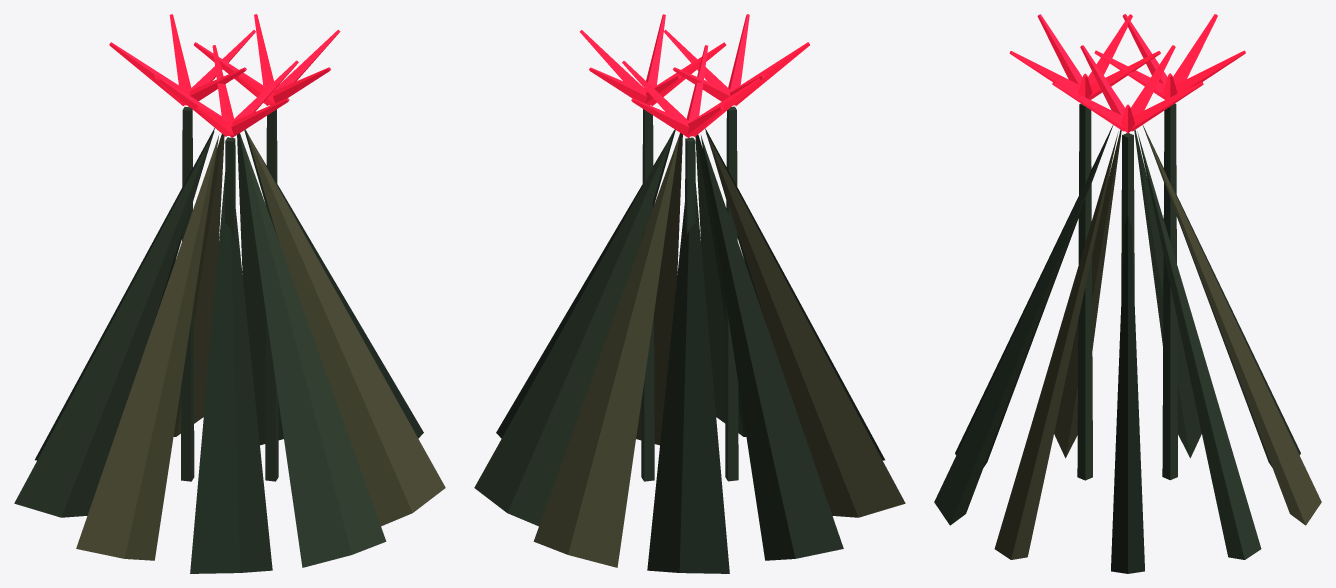
File: grass.glb
The picture shows the model from 3 angles, left to right: view 1: azimuth 30°, elevation 25°; view 2: azimuth 150°, elevation 25°; view 3: azimuth 270°, elevation 25°; orthographic projection.
Visible parts, largest first — view 1: Grass; view 2: Grass; view 3: Grass.
Boxes of the visible parts, left/top/right/bottom form: Grass: left=14, top=14, right=445, bottom=573; Grass: left=474, top=14, right=905, bottom=573; Grass: left=934, top=14, right=1321, bottom=573.
Bounding box in the file's own units: 0.4501 × 0.5189 × 0.3956.
